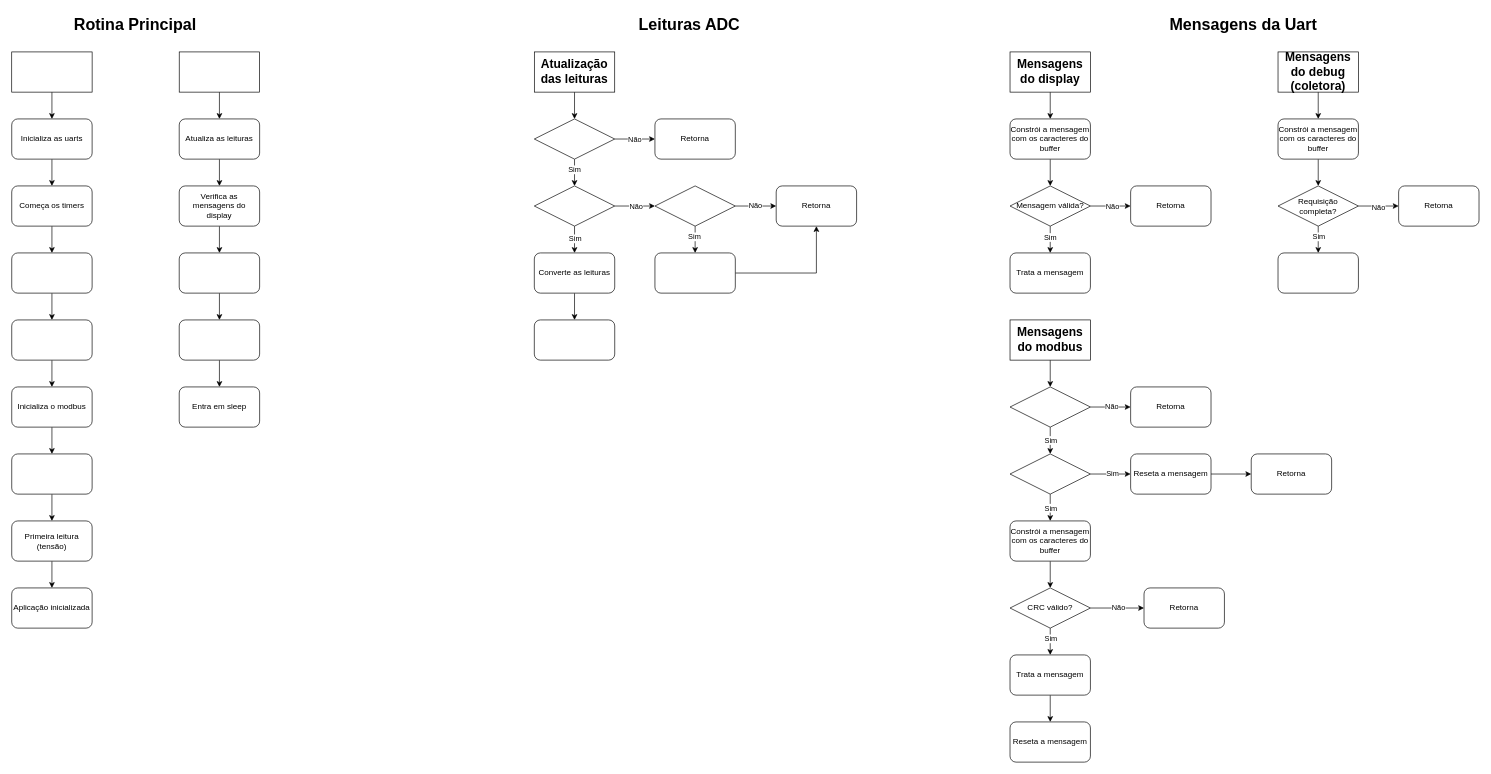
Image size: 1491x774. Some labels were removed from this diagram. Each missing label, with the centre of its shape:
DMA livre?: the point at 694,205
Envia a resposta: the point at 1317,272
Envia para o display: the point at 574,339
Habilita o modbus: the point at 51,473
Inicialização: the point at 51,71
Leituras novas?: the point at 574,205
Modbus habilitado?: the point at 1049,406
Passou 1 ms?: the point at 574,138
Pede novas leituras do tipo diferente do anterior: the point at 694,272
Polling: the point at 219,71
Seta a uart de debug: the point at 51,339
Seta a uart do display: the point at 51,272
Timeout da mensagem?: the point at 1049,473
Verifica as mensagens do debug: the point at 219,272
Verifica as mensagens do modbus: the point at 219,339
